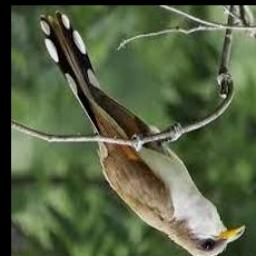Cuckoo: (39, 11, 244, 256)
